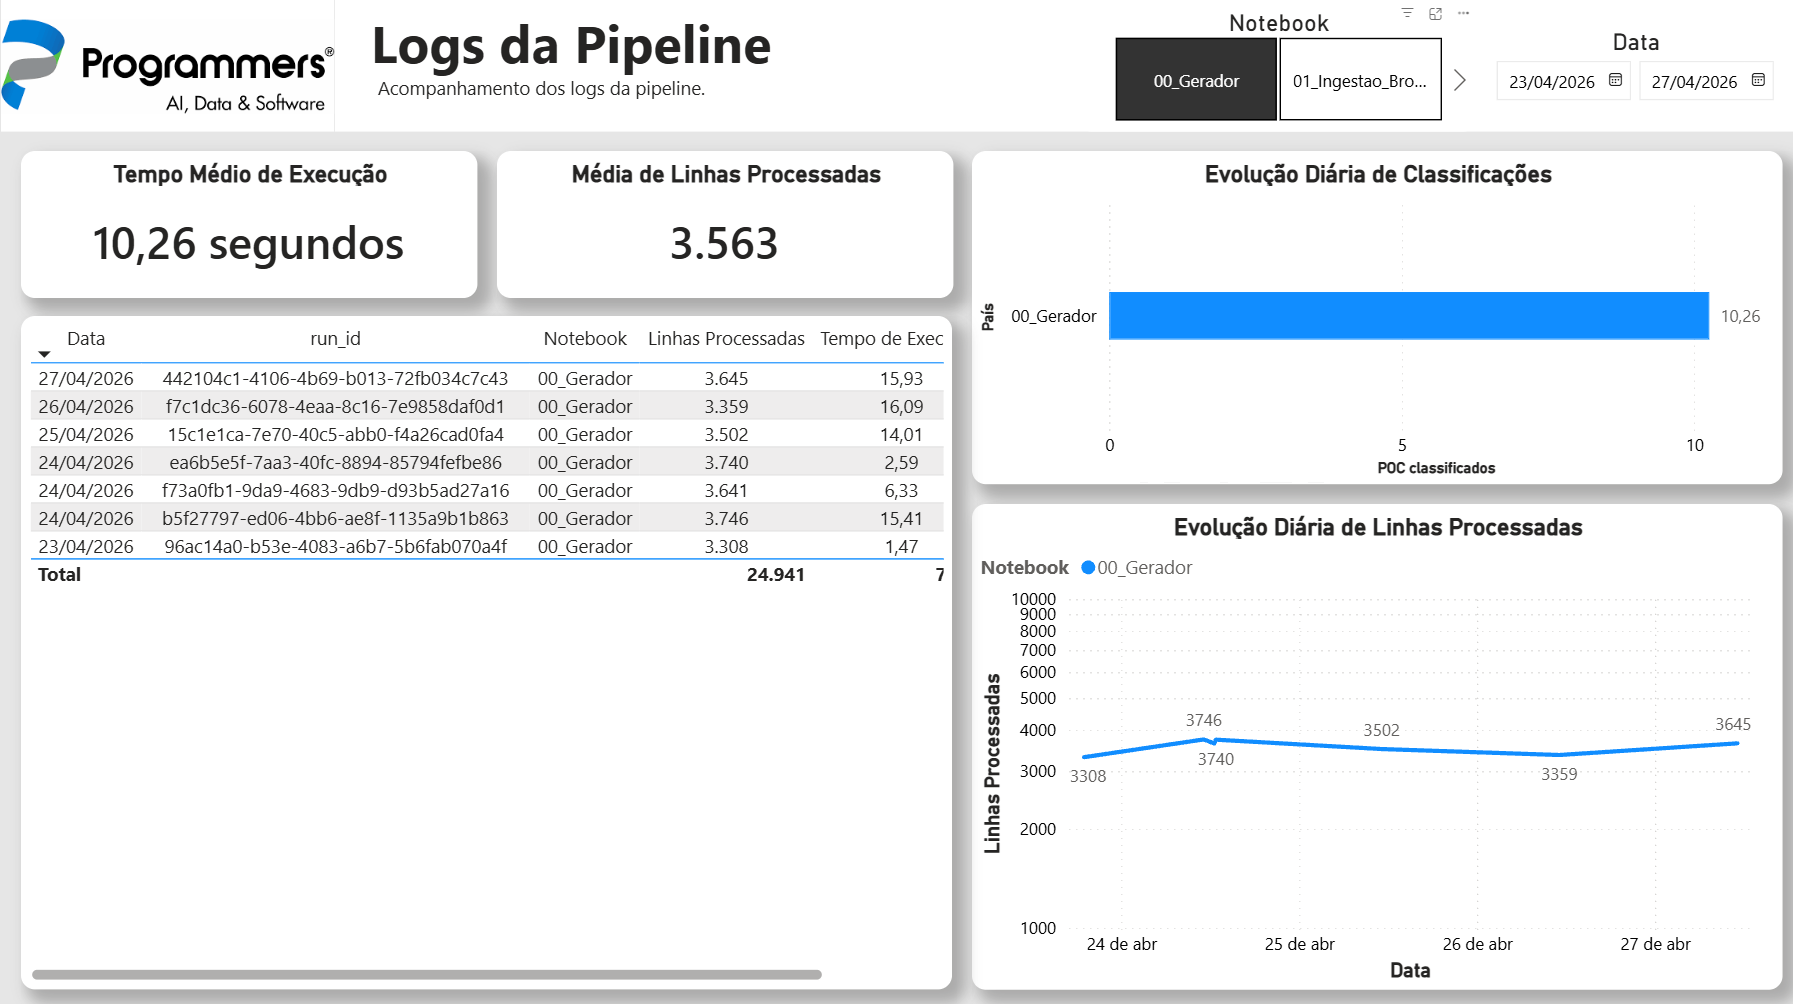

What the dashboard file says about the page in this screenshot:
{"tool":"powerbi","page":{"name":"Logs da Pipeline","canvas":[1280,720],"ordinal":3},"visuals":[{"type":"image","box":[0,0,238.3,94.3],"z":0},{"type":"textbox","box":[238.3,0,1041.7,94.3],"z":1000},{"type":"slicer","title":"Data","fields":{"Values":["log_execucao_pipeline.data_hora"]},"box":[1054.3,13.6,225.7,66.1],"z":2000},{"type":"cardVisual","title":"Tempo Médio de Execução","fields":{"Data":["log_execucao_pipeline.Média Tempo (Exibição)"]},"box":[14.6,108,325.8,105],"z":3000},{"type":"slicer","title":"Notebook","fields":{"Values":["log_execucao_pipeline.notebook_nome"]},"box":[769.4,0,285,94.3],"z":4000},{"type":"cardVisual","title":"Média de Linhas Processadas","fields":{"Data":["log_execucao_pipeline.Media Linhas"]},"box":[354,108,325.8,105],"z":5000},{"type":"clusteredBarChart","title":"Evolução Diária de Classificações","fields":{"Category":["log_execucao_pipeline.notebook_nome"],"Y":["log_execucao_pipeline.Média Tempo"]},"box":[693.5,108,578.7,238.3],"z":6000},{"type":"lineChart","title":"Evolução Diária de Linhas Processadas","fields":{"Category":["log_execucao_pipeline.data_hora"],"Series":["log_execucao_pipeline.notebook_nome"],"Y":["Sum(log_execucao_pipeline.linhas_processadas)"]},"box":[693.5,359.9,578.7,347.2],"z":7000},{"type":"tableEx","title":"Evolução Diária de Classificações","fields":{"Values":["log_execucao_pipeline.data_hora","log_execucao_pipeline.run_id","log_execucao_pipeline.notebook_nome","Sum(log_execucao_pipeline.linhas_processadas)","Sum(log_execucao_pipeline.tempo_execucao_segundos)","log_execucao_pipeline.status"]},"box":[14.6,225.7,665.3,481.5],"z":8000}]}

Visuals, with their boxes in screenshot pixels (x1, y1, x2, y2), scaled from the page's 1280x720 canvas onto the 1793x1004 screenshot:
image: (0,0,334,131)
textbox: (334,0,1792,131)
"Data" slicer: (1477,19,1792,111)
"Tempo Médio de Execução" cardVisual: (20,151,477,297)
"Notebook" slicer: (1078,0,1477,131)
"Média de Linhas Processadas" cardVisual: (496,151,952,297)
"Evolução Diária de Classificações" clusteredBarChart: (971,151,1782,483)
"Evolução Diária de Linhas Processadas" lineChart: (971,502,1782,986)
"Evolução Diária de Classificações" tableEx: (20,315,952,986)
